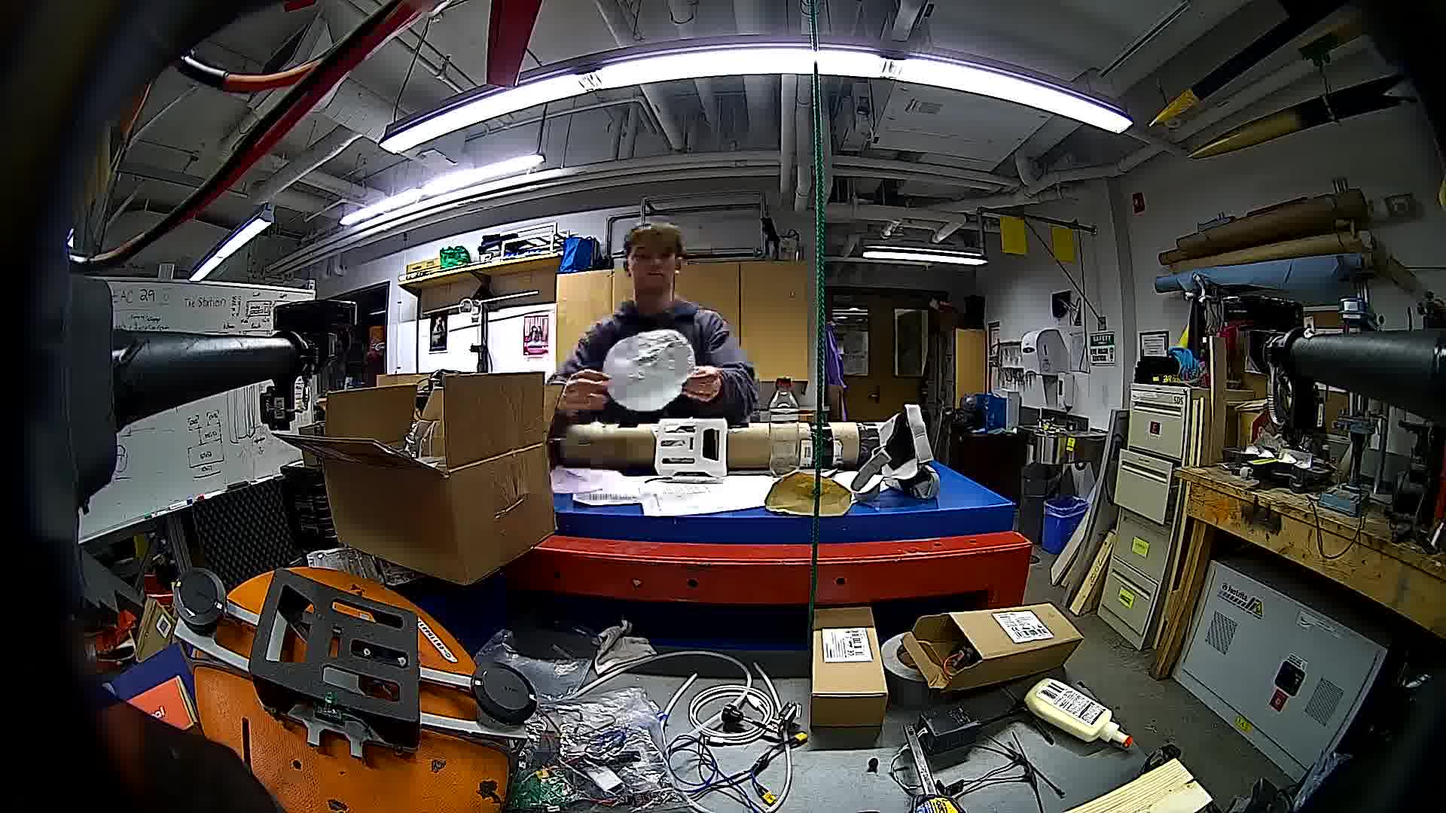Target: (604, 336, 694, 413)
